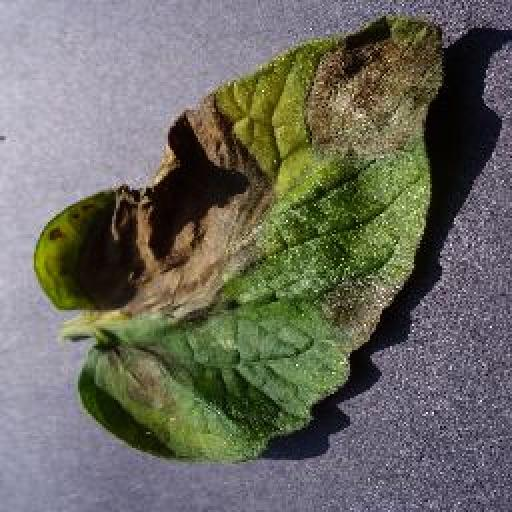disease_tomato: (32, 16, 450, 462)
